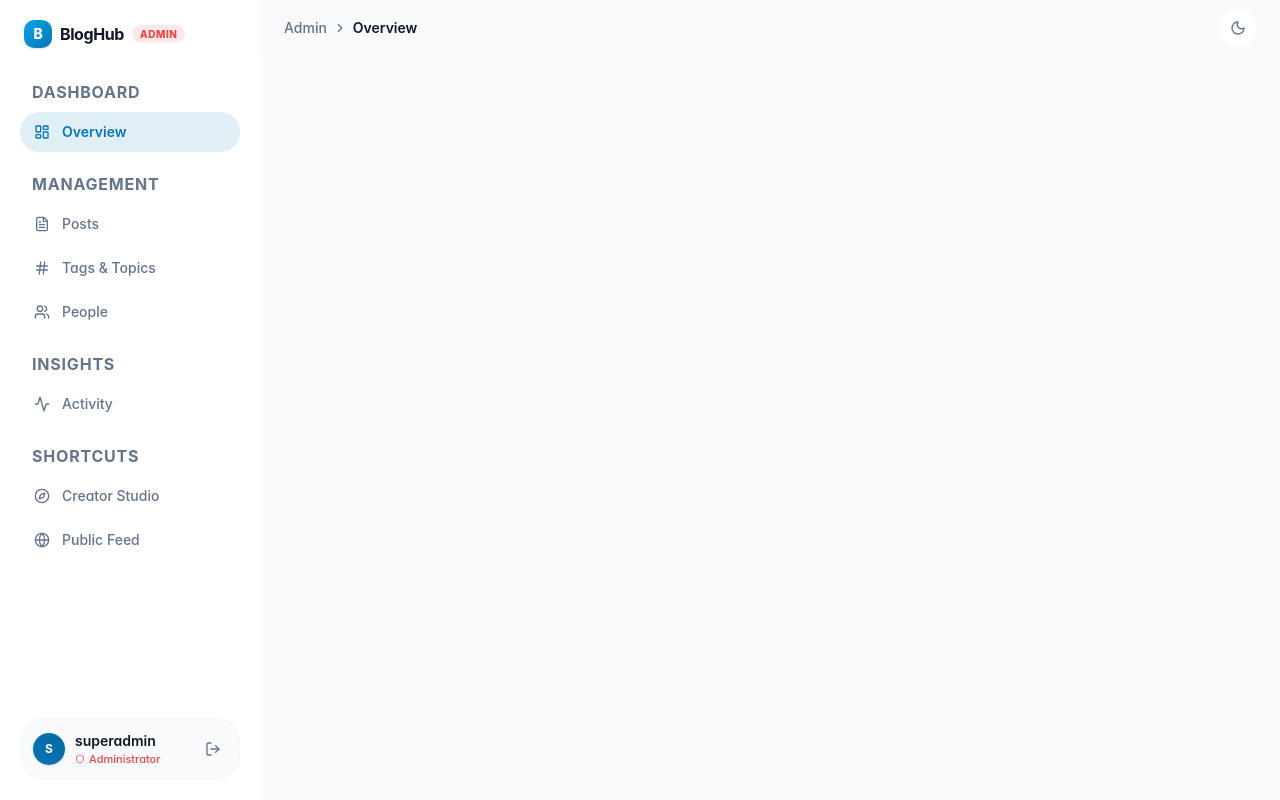
Test case: AdminLayout Component › renders admin user card with role badge and opens sign out modal on click
This screenshot has width=1280, height=800.
Check: the text "superadmin" is shown, box [75,731,160,751]
Check: the text "Administrator" is shown, box [75,751,160,767]
// Open sign out modal
Click the button named "sign out": (213, 749) [197,733,229,765]
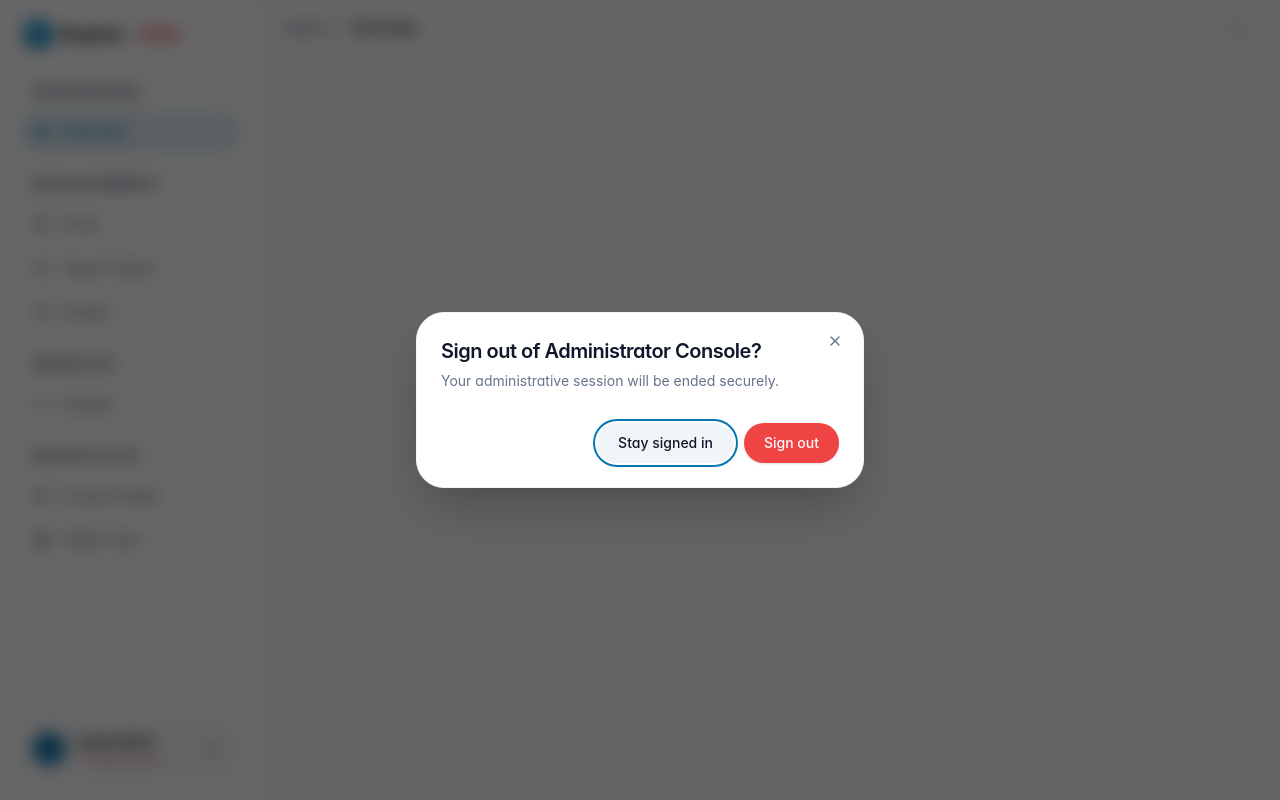
Check: the heading "Sign out of Administrator Console?" is shown, box [441,339,761,363]
Check: the button "Stay signed in" is shown, box [597,423,734,463]
